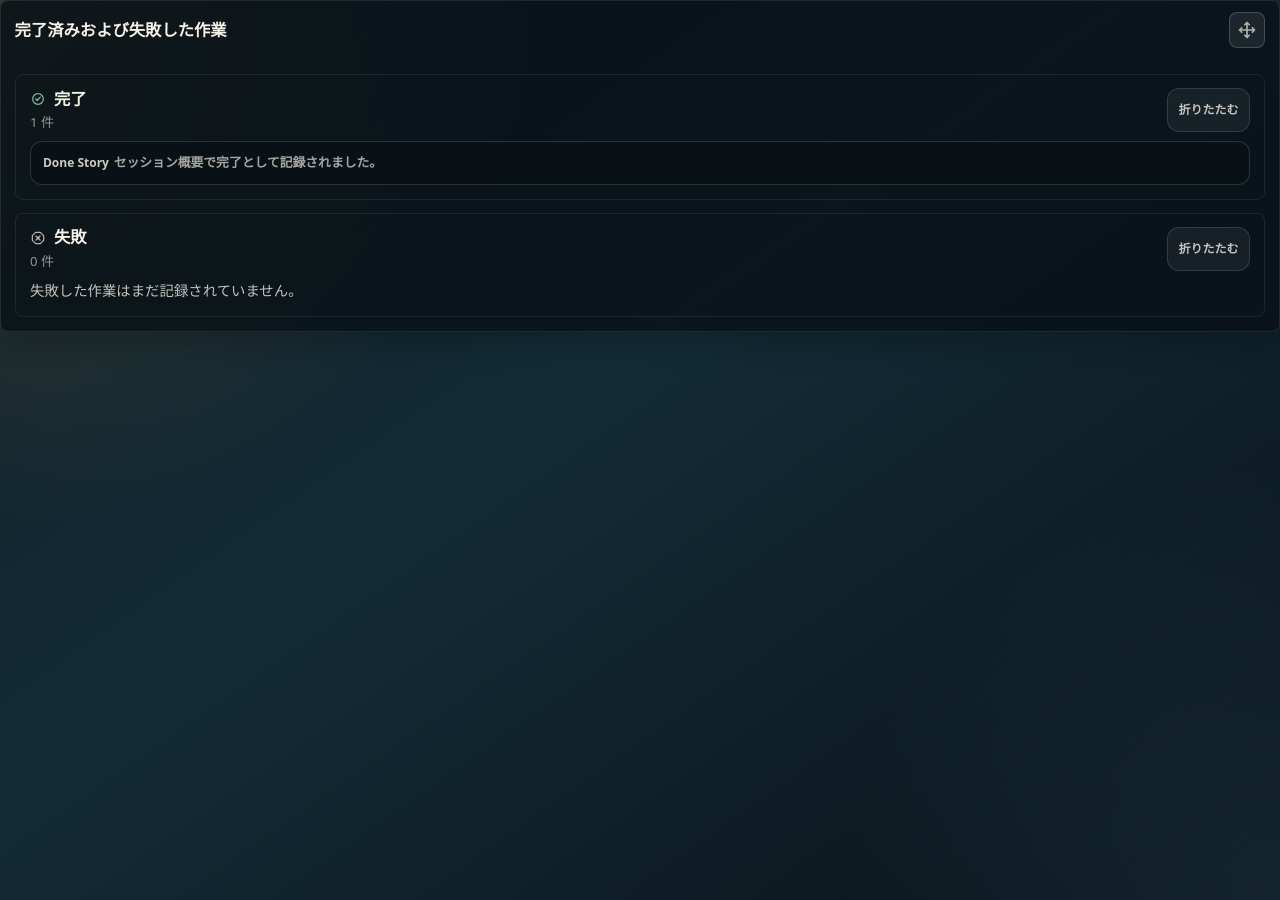
Test: CompletedFailedWorkstationCard › renders translated terminal-work copy for non-default locales
This screenshot has width=1280, height=900.
Check: the heading "完了済みおよび失敗した作業" is shown, box [15,20,227,40]
Check: the heading "完了" is shown, box [54,89,87,109]
Click the button "折りたたむ" in the row of "1 件" at (1209, 110), box [1167,88,1250,132]
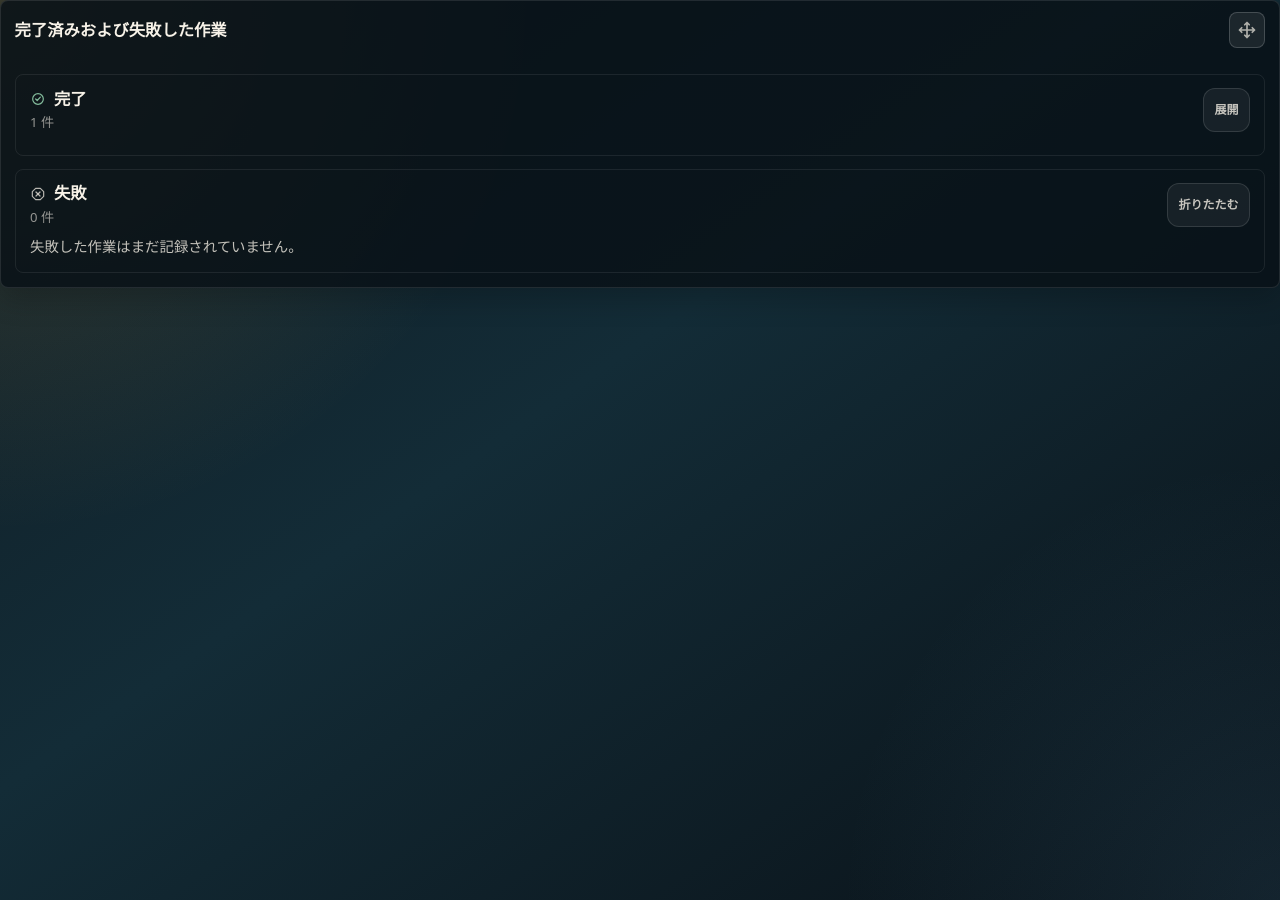
Check: the button "展開" is collapsed, box [1203,88,1250,132]
